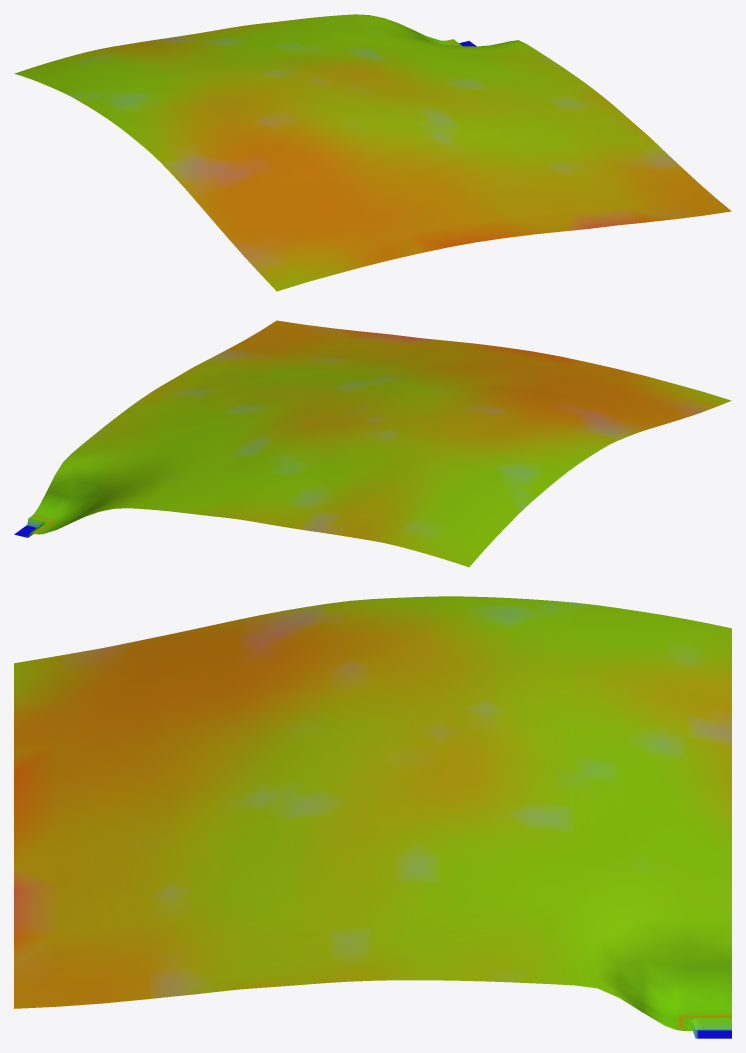
Rendered from SM_BM_BT_Terrain_1_0.glb.
The picture shows the model from 3 angles, top to bottom: view 1: azimuth 30°, elevation 25°; view 2: azimuth 150°, elevation 25°; view 3: azimuth 270°, elevation 25°; orthographic projection. The views are drawn at different scales.
Visible parts, largest first — view 1: SM_BM_BT_Terrain_1_0; view 2: SM_BM_BT_Terrain_1_0; view 3: SM_BM_BT_Terrain_1_0.
Part boxes in pixels (<box>): SM_BM_BT_Terrain_1_0: <box>14,14,731,291</box>; SM_BM_BT_Terrain_1_0: <box>14,320,731,567</box>; SM_BM_BT_Terrain_1_0: <box>14,596,731,1038</box>.
Bounding box in the file's own units: 256 × 57.75 × 256.
